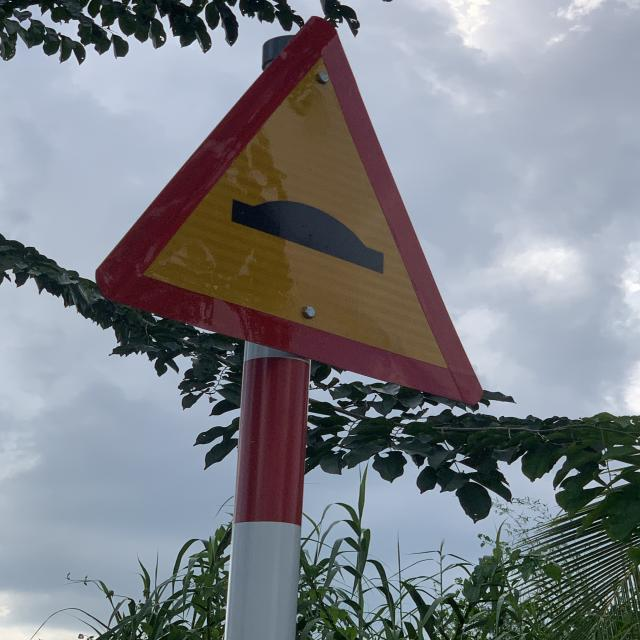Duong_Cong_Ben_Phai: (93, 14, 484, 404)
